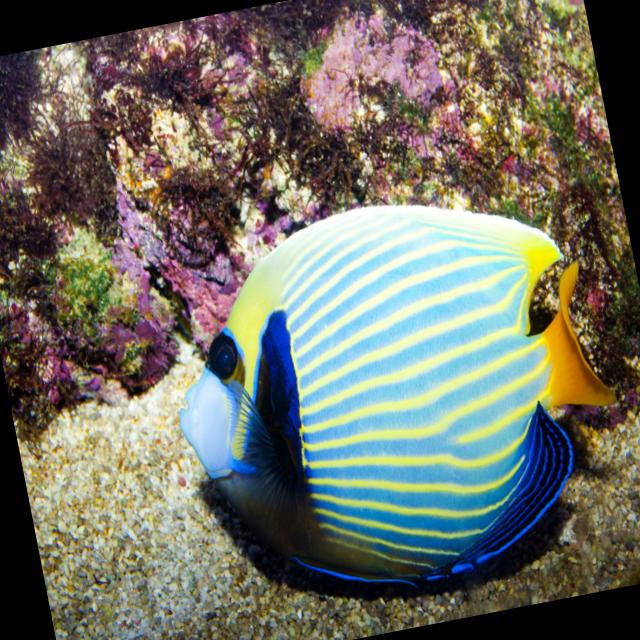AngelFish: (145, 166, 640, 628)
